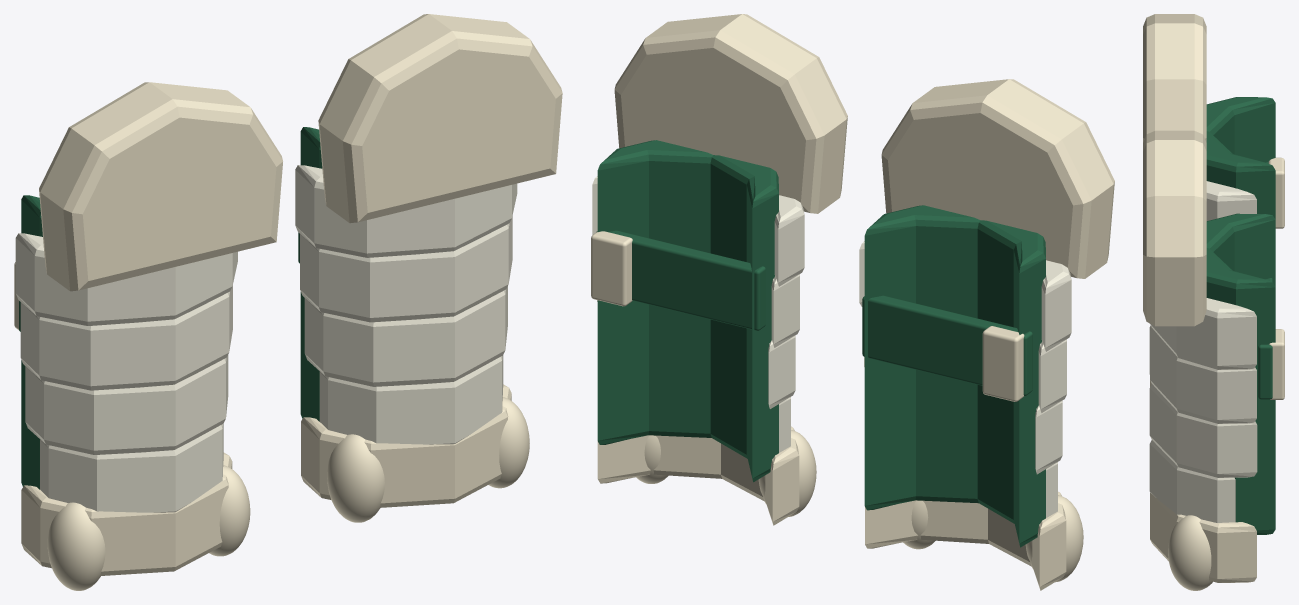
File: cricket-ground-and-pavilion-wicketkeeping-pad-pair-ecd6da73__31318.glb
3 views of the same model, side by side, from view 1: azimuth 30°, elevation 25°; view 2: azimuth 150°, elevation 25°; view 3: azimuth 270°, elevation 25° (orthographic). The views are drawn at different scales.
Parts seen in each view (by area): view 1: wicketkeeping-pad-pair; view 2: wicketkeeping-pad-pair; view 3: wicketkeeping-pad-pair.
Part boxes in pixels (box(x1,y1,x2,y2)): wicketkeeping-pad-pair: box(14, 14, 562, 590); wicketkeeping-pad-pair: box(591, 14, 1114, 590); wicketkeeping-pad-pair: box(1143, 14, 1284, 590).
Size of the model in its own units: 0.5346 by 0.5027 by 0.154.
